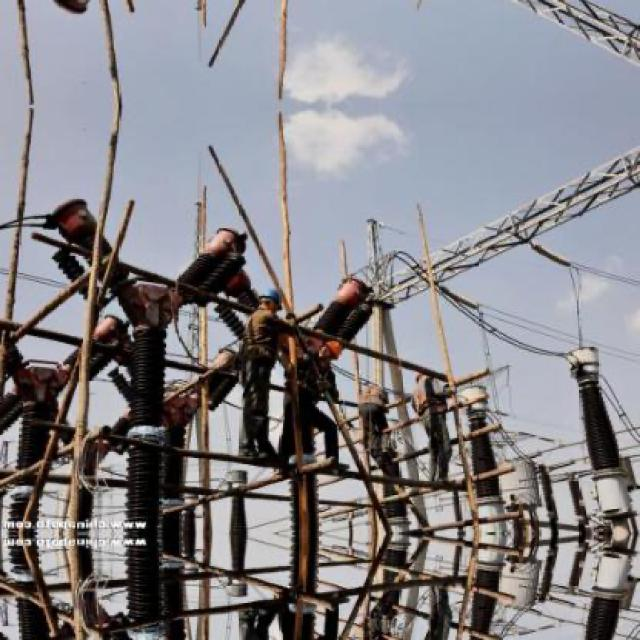con casco: (238, 288, 324, 314), (397, 354, 451, 394)
